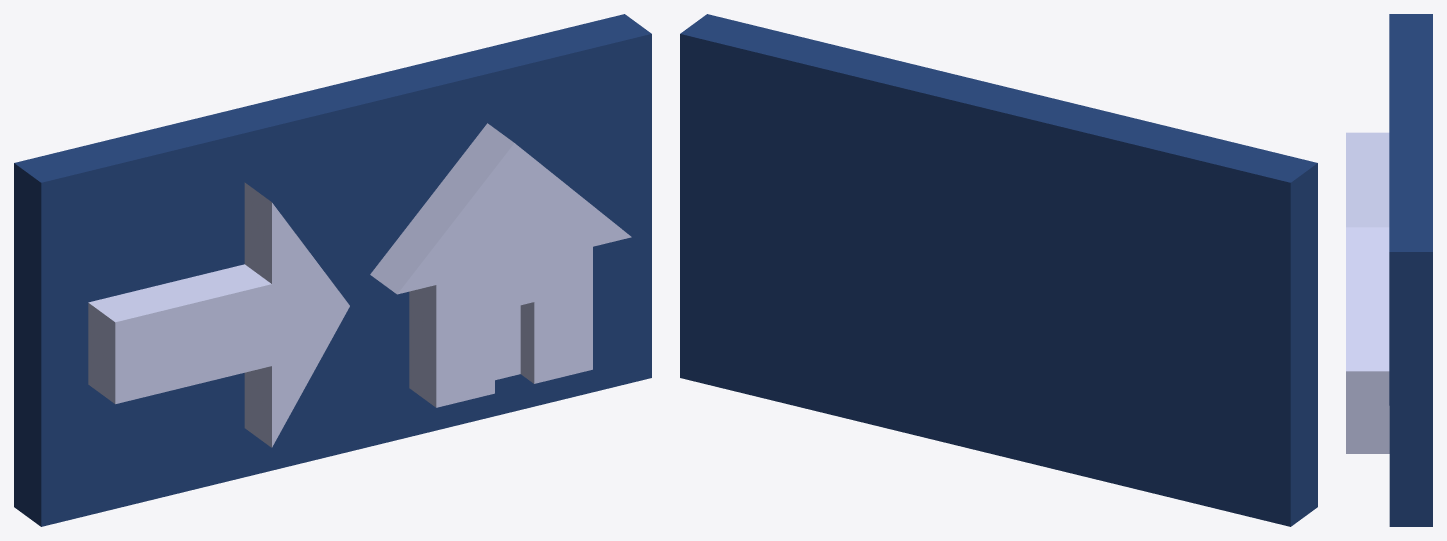
Rendered from joinRoomButton.glb.
The picture shows the model from 3 angles, left to right: view 1: azimuth 30°, elevation 25°; view 2: azimuth 150°, elevation 25°; view 3: azimuth 270°, elevation 25°; orthographic projection. The views are drawn at different scales.
Visible parts, largest first — view 1: Join Room Button; view 2: Join Room Button; view 3: Join Room Button.
Boxes of the visible parts, <box> form: Join Room Button: <box>14,14,651,526</box>; Join Room Button: <box>680,14,1317,526</box>; Join Room Button: <box>1346,14,1432,526</box>.
Bounding box in the file's own units: 2.6 × 1.4 × 0.4.
